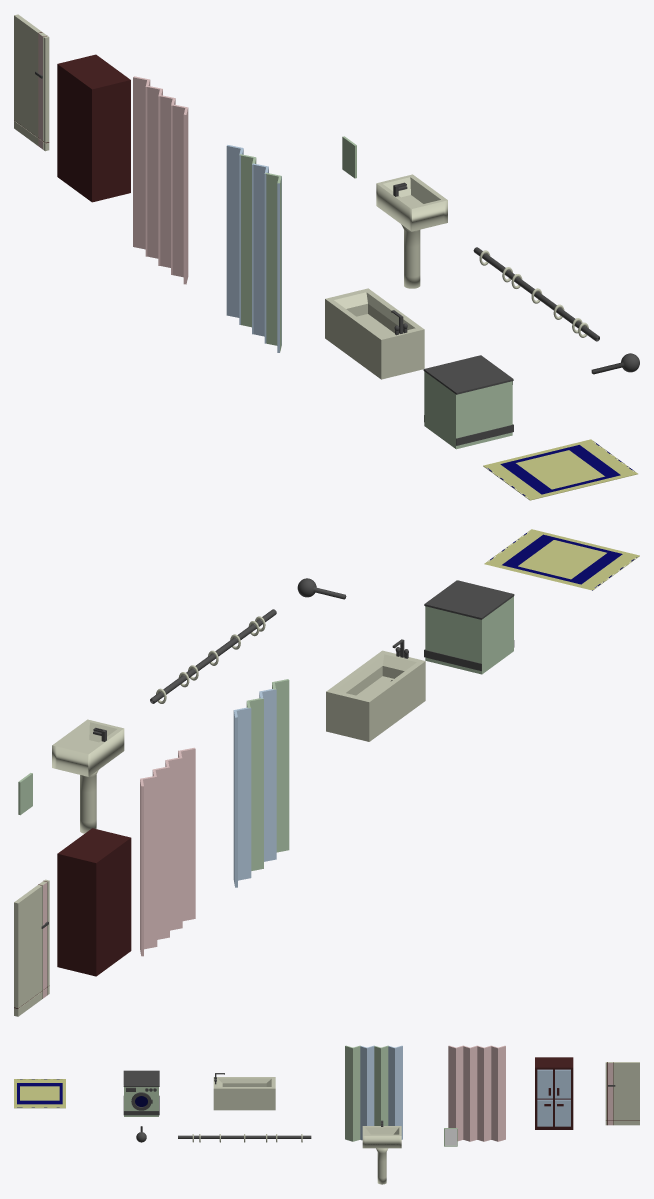
File: banyo.fbx
The picture shows the model from 3 angles, top to bottom: view 1: azimuth 30°, elevation 25°; view 2: azimuth 150°, elevation 25°; view 3: azimuth 270°, elevation 25°; orthographic projection. The views are drawn at different scales.
Visible parts, largest first — view 1: Cube.003, Cube.004, Cube.002, Cube, Cube.001, Cube.008, Cube.007, Cube.005, Cylinder; view 2: Cube.002, Cube.004, Cube.003, Cube, Cube.001, Cube.008, Cube.007, Cube.005, Cylinder; view 3: Cube.003, Cube.002, Cube.004, Cube.007, Cube.001, Cube, Cube.008, Cube.005, Cylinder, Cube.006.
Boxes of the visible parts, x1=… form: Cube.003: x1=133, y1=76, x2=188, y2=284; Cube.004: x1=57, y1=54, x2=130, y2=202; Cube.002: x1=226, y1=145, x2=281, y2=352; Cube: x1=423, y1=355, x2=513, y2=449; Cube.001: x1=325, y1=288, x2=424, y2=379; Cube.008: x1=483, y1=439, x2=637, y2=500; Cube.007: x1=14, y1=14, x2=49, y2=151; Cube.005: x1=376, y1=174, x2=447, y2=288; Cylinder: x1=473, y1=247, x2=599, y2=341; Cube.002: x1=233, y1=679, x2=289, y2=887; Cube.004: x1=57, y1=828, x2=131, y2=976; Cube.003: x1=140, y1=747, x2=195, y2=956; Cube: x1=424, y1=580, x2=514, y2=674; Cube.001: x1=326, y1=639, x2=425, y2=741; Cube.008: x1=484, y1=529, x2=639, y2=590; Cube.007: x1=14, y1=879, x2=49, y2=1016; Cube.005: x1=52, y1=719, x2=124, y2=833; Cylinder: x1=150, y1=609, x2=276, y2=703; Cube.003: x1=448, y1=1045, x2=505, y2=1141; Cube.002: x1=345, y1=1045, x2=402, y2=1141; Cube.004: x1=535, y1=1057, x2=573, y2=1129; Cube.007: x1=605, y1=1062, x2=639, y2=1125; Cube.001: x1=213, y1=1073, x2=275, y2=1110; Cube: x1=123, y1=1070, x2=159, y2=1116; Cube.008: x1=14, y1=1079, x2=65, y2=1108; Cube.005: x1=362, y1=1120, x2=401, y2=1184; Cylinder: x1=178, y1=1134, x2=311, y2=1142; Cube.006: x1=444, y1=1128, x2=457, y2=1146.
Size of the model in its own units: 434 by 300 by 1821.
